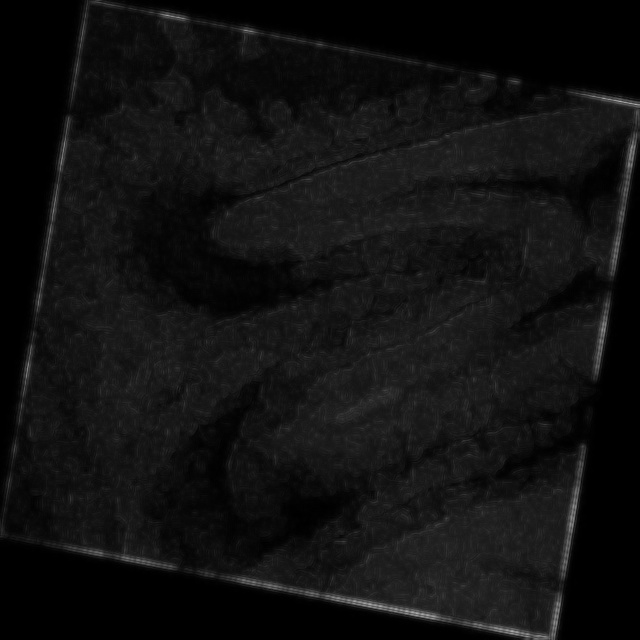Class 2- incomplete endodontic treatment: (68, 12, 640, 624)
